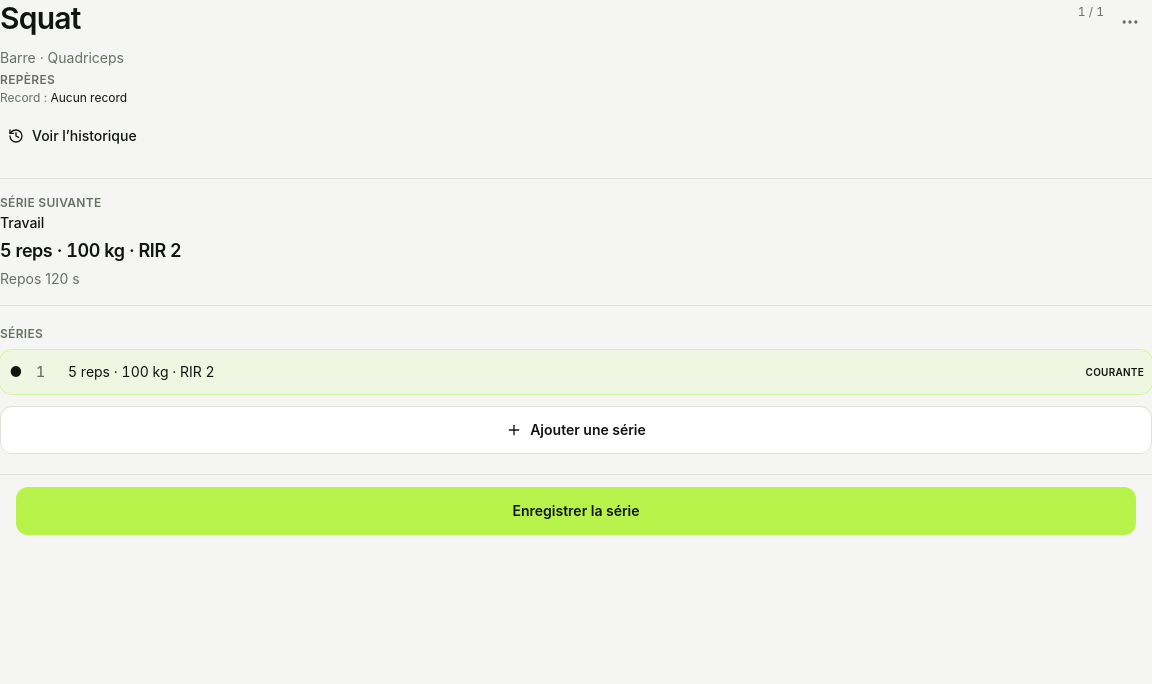
Test: Ajouter les séries d’échauffement (calculateur de disques) › envoie la rampe calculée puis ferme la feuille avec un message
Step 1. Click the button named "Actions de l’exercice" → (1130, 22), box top-left (1108, 0), bottom-right (1151, 44)
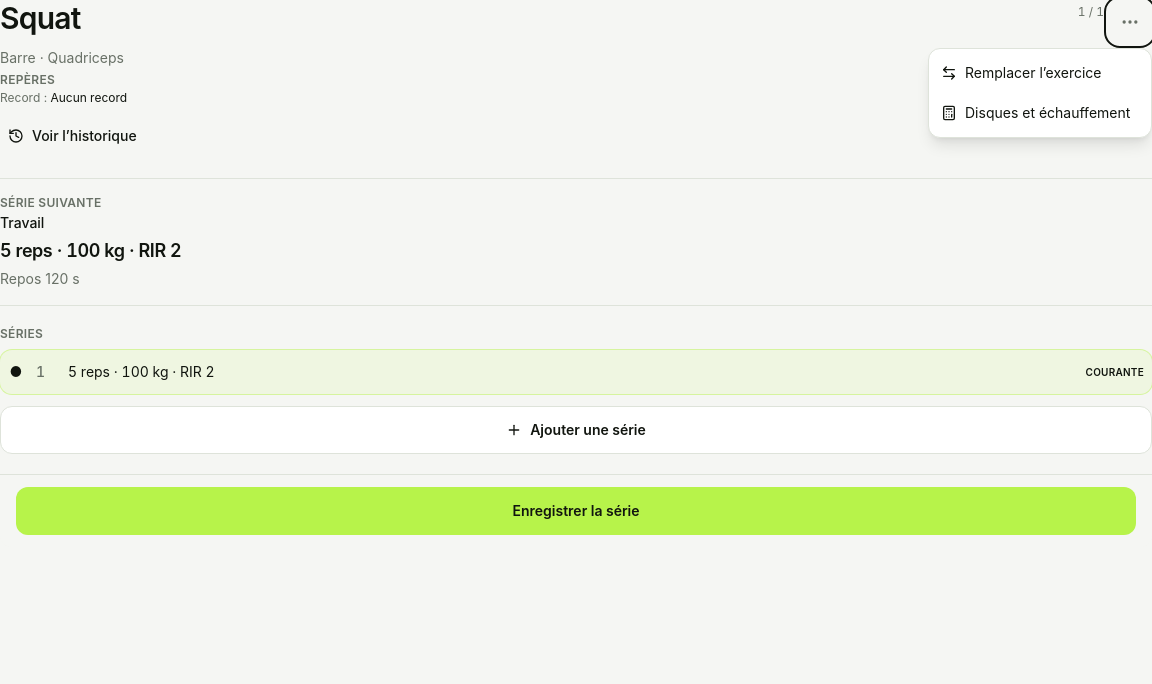
Step 2. Click the menu item "Disques et échauffement" → (1040, 113), box top-left (929, 93), bottom-right (1151, 133)
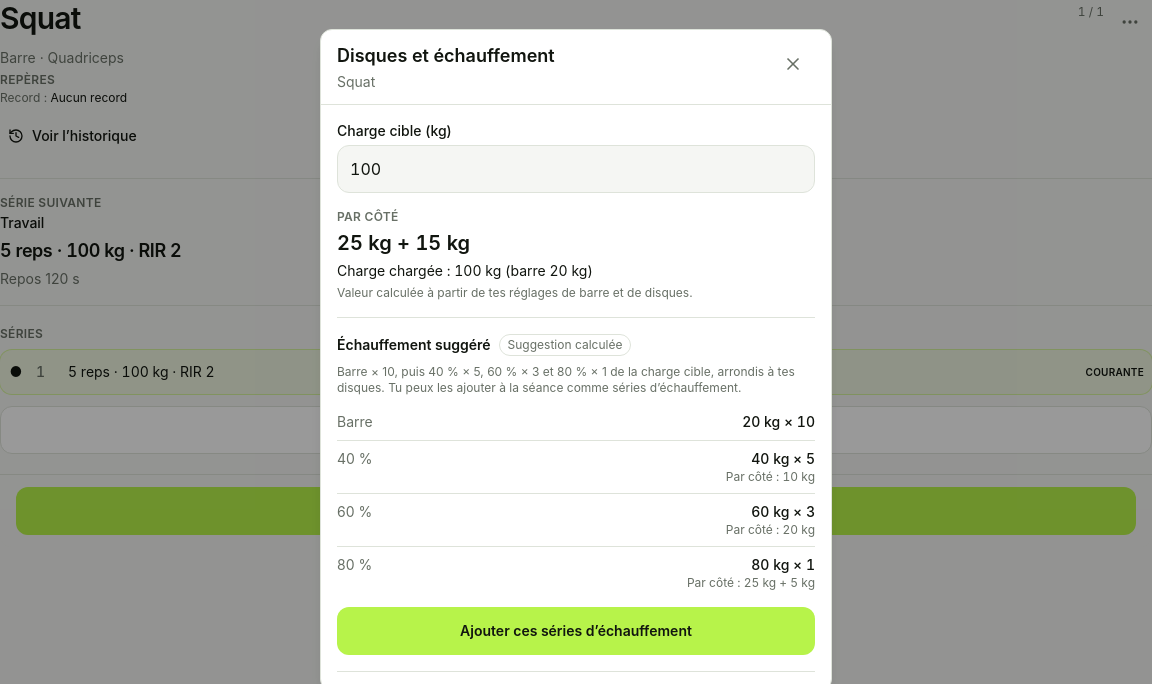
Step 3. Click the button "Ajouter ces séries d’échauffement" → (576, 631), box top-left (337, 607), bottom-right (815, 655)
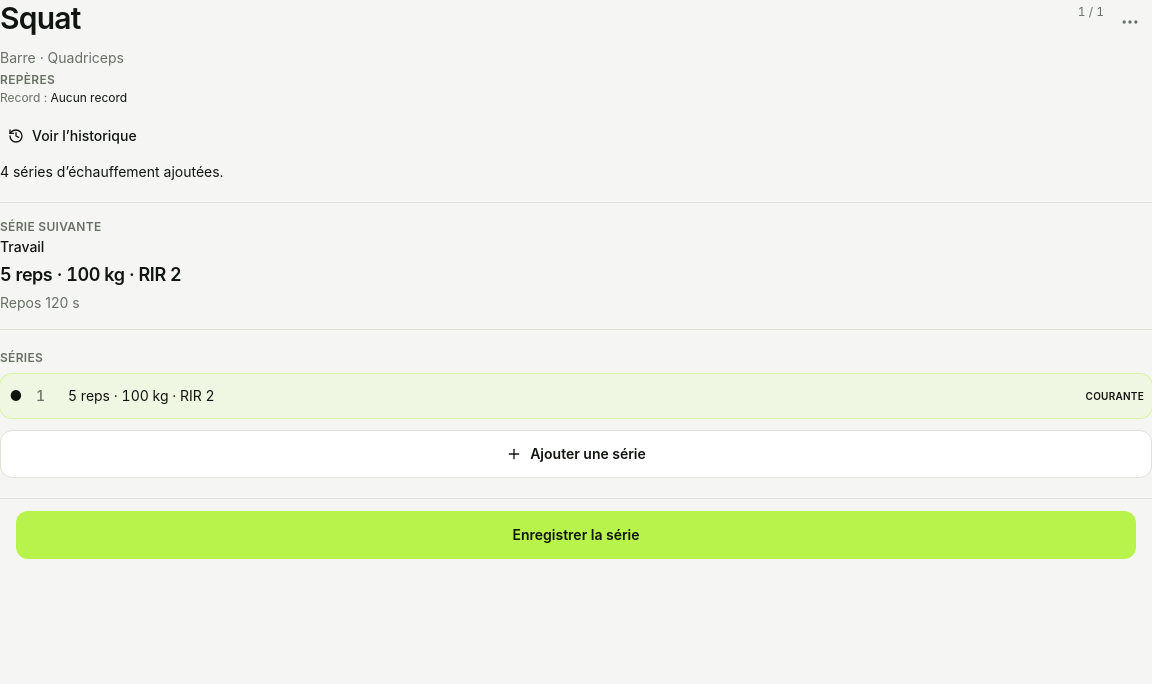
Expected: the text "4 séries d’échauffement ajoutées." is shown, top-left (0, 163), bottom-right (224, 180)
